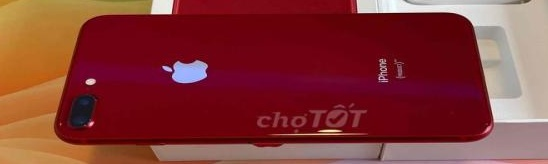screen_defect: (266, 123, 376, 138)
